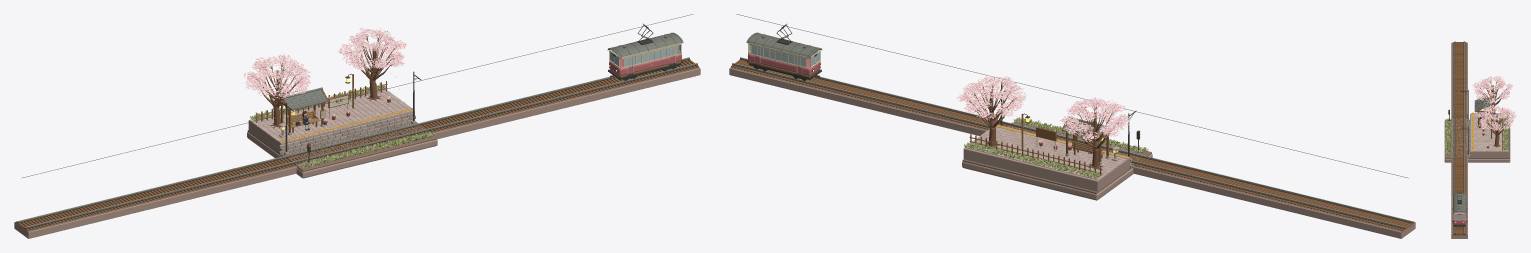
Rendered from station-v02.glb.
3 renders of one model, left to right at view 1: azimuth 30°, elevation 25°; view 2: azimuth 150°, elevation 25°; view 3: azimuth 270°, elevation 25°, orthographic. The views are drawn at different scales.
Parts seen in each view (by area): view 1: Static • environment, Static • TRAM • route master, Sakura 22 • animated blossom canopy, Sakura 47 • animated blossom canopy; view 2: Static • environment, Static • TRAM • route master, Sakura 47 • animated blossom canopy, Sakura 22 • animated blossom canopy; view 3: Static • environment, Sakura 22 • animated blossom canopy, Sakura 47 • animated blossom canopy, Static • TRAM • route master.
Boxes of the visible parts, x1,y1,x2,y2 form: Static • environment: (14, 14, 700, 238); Static • TRAM • route master: (607, 24, 683, 79); Sakura 22 • animated blossom canopy: (243, 53, 310, 98); Sakura 47 • animated blossom canopy: (338, 27, 406, 70); Static • environment: (729, 14, 1415, 238); Static • TRAM • route master: (746, 24, 822, 79); Sakura 47 • animated blossom canopy: (956, 75, 1026, 120); Sakura 22 • animated blossom canopy: (1059, 97, 1129, 141); Static • environment: (1444, 41, 1510, 238); Sakura 22 • animated blossom canopy: (1472, 76, 1512, 103); Sakura 47 • animated blossom canopy: (1477, 104, 1516, 130); Static • TRAM • route master: (1452, 192, 1467, 227).
Bounding box in the file's own units: 70 × 8.77 × 11.13.
